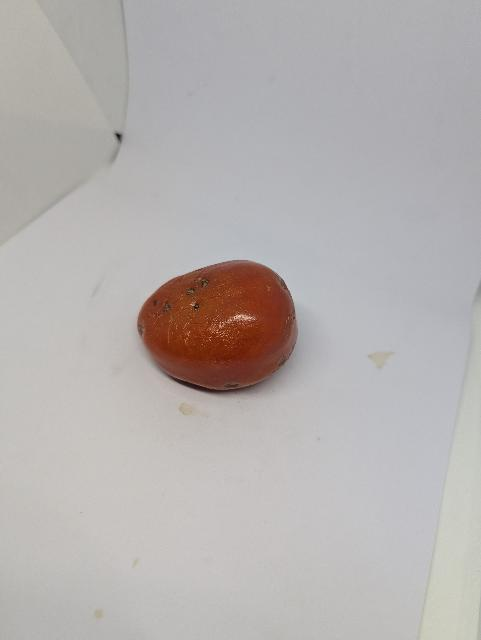defect: (130, 255, 307, 397)
